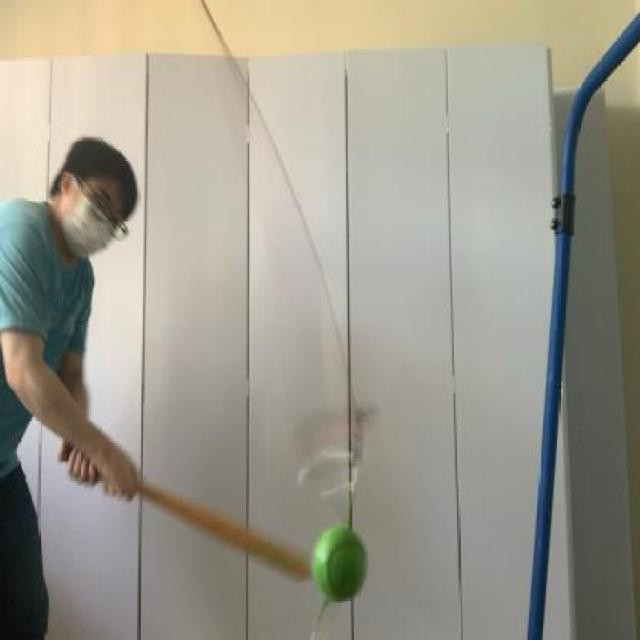baseball: (307, 521, 368, 599)
